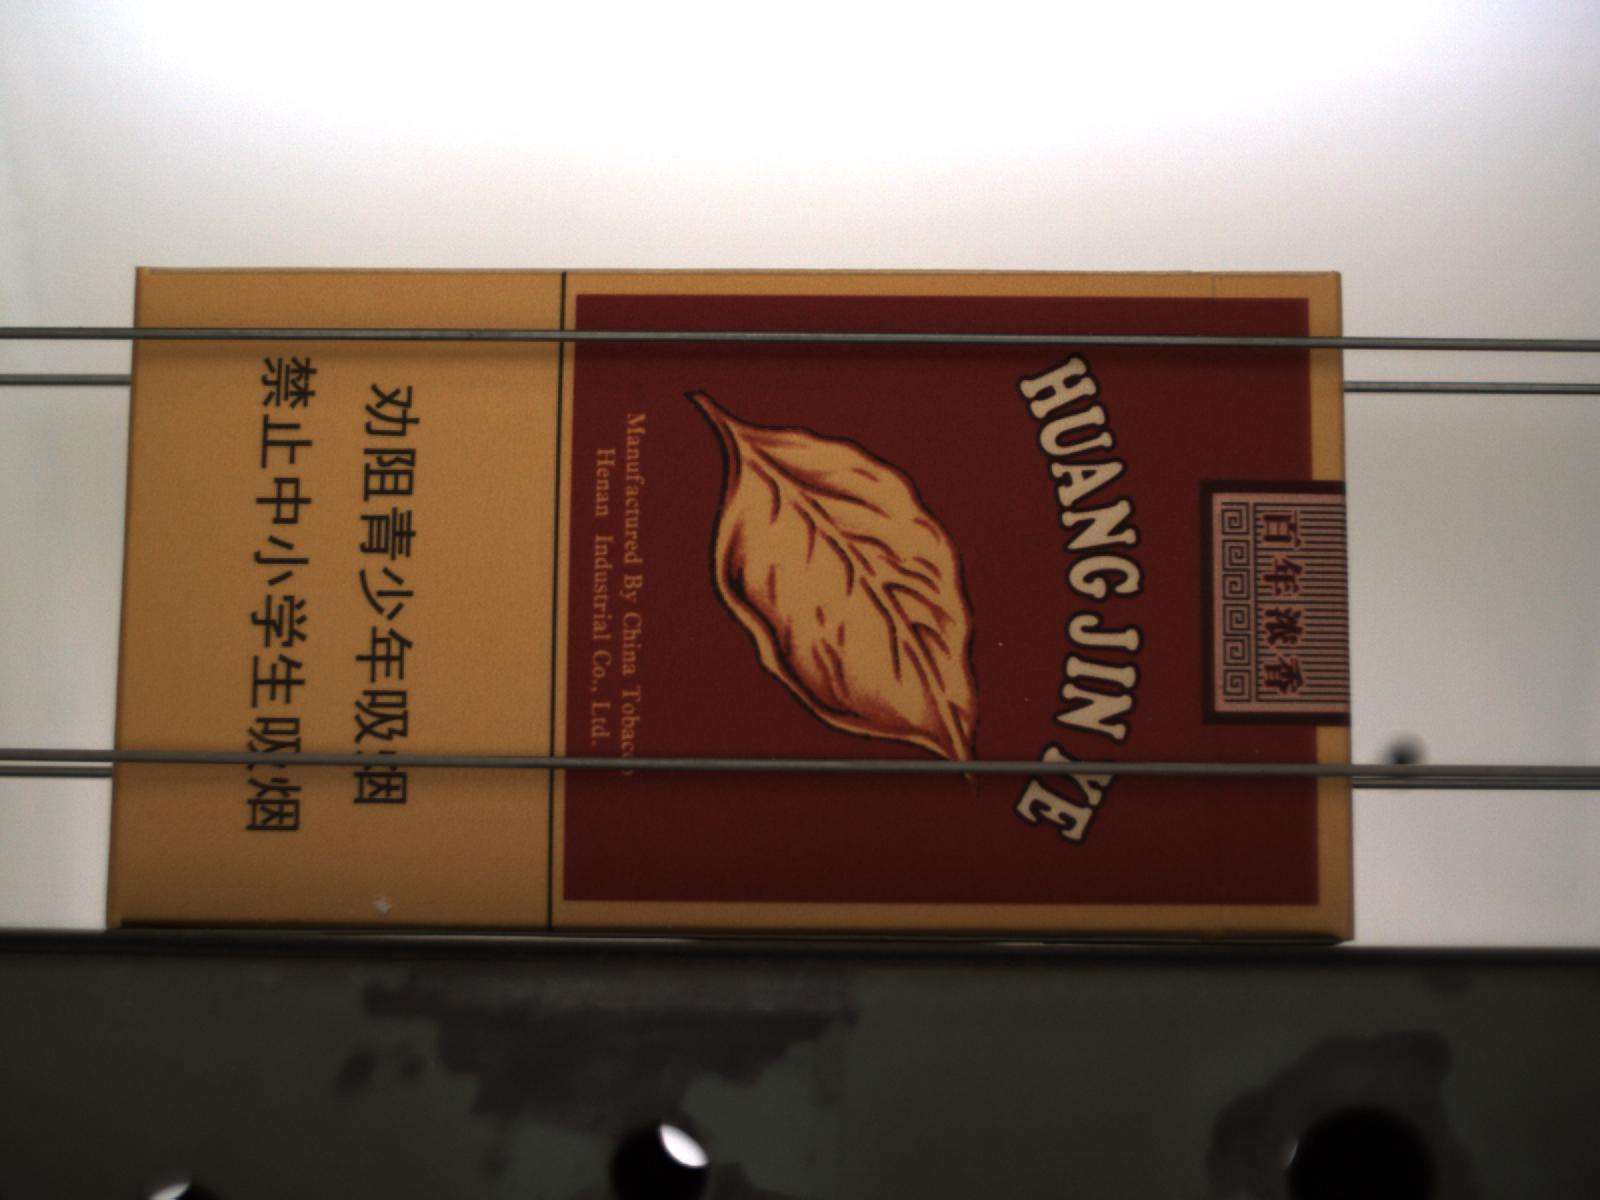dirtyPrint: (375, 899, 393, 916), (994, 640, 1005, 649), (1023, 695, 1031, 703), (1254, 747, 1260, 754), (1146, 716, 1153, 721)
